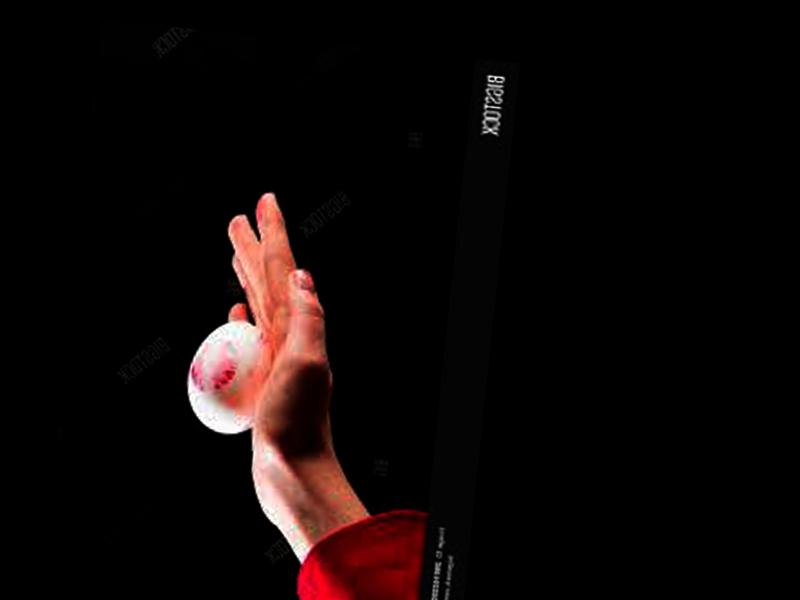Eggs: (181, 319, 268, 438)
